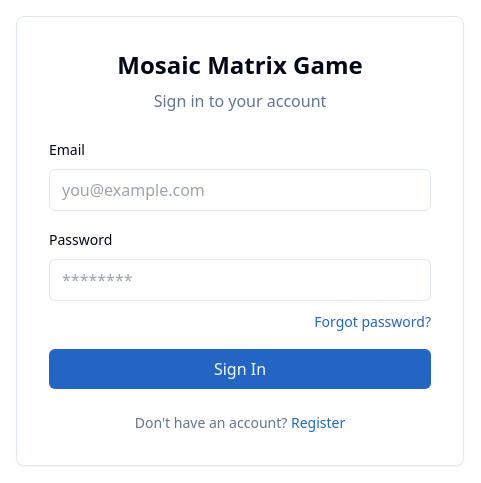
it: Login Page › should show loading state while submitting
Type "test@example.com" into the field labelled "Email" at x=240, y=190, box [49, 169, 431, 211]
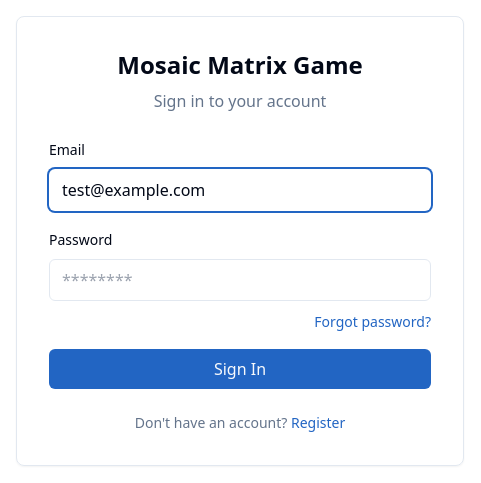
Type "password123" into the password field labelled "Password" at x=240, y=280, box [49, 259, 431, 301]
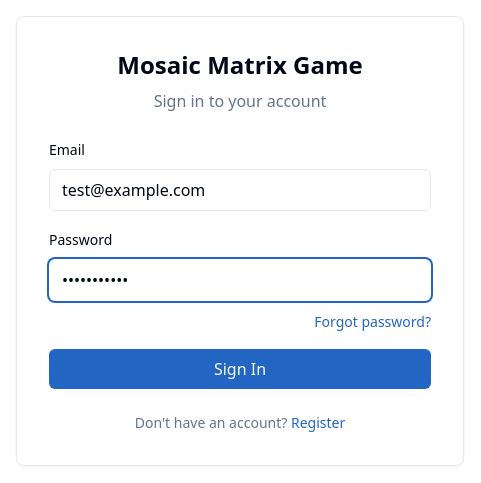
Click the button "Sign In" at x=240, y=369, box [49, 349, 431, 389]
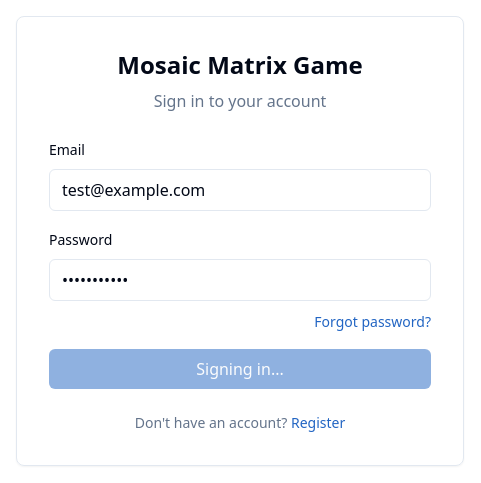
Expected: the button "Signing in..." is shown, [49, 349, 431, 389]
